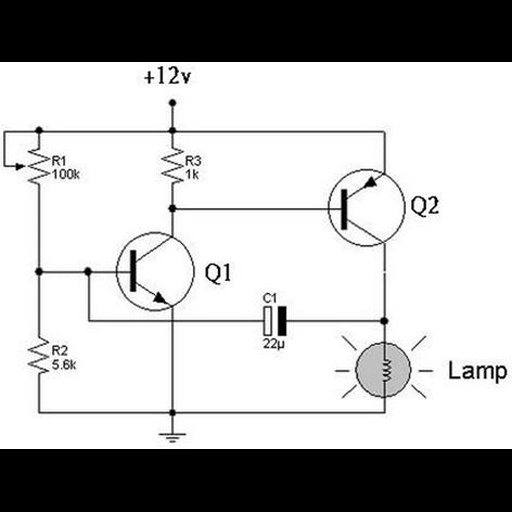gnd: (158, 433, 189, 443)
npn: (126, 240, 178, 306)
pnp: (337, 174, 386, 242)
secondresistance: (24, 332, 51, 383), (159, 139, 184, 190)
